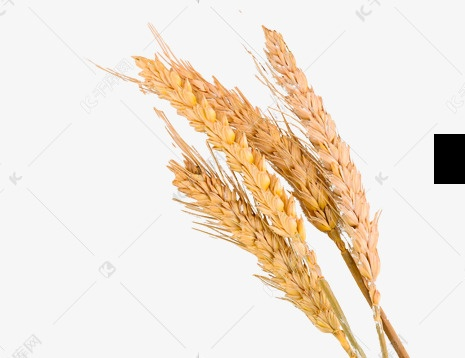wheat: (175, 156, 348, 354), (142, 50, 333, 227), (271, 19, 381, 278)
